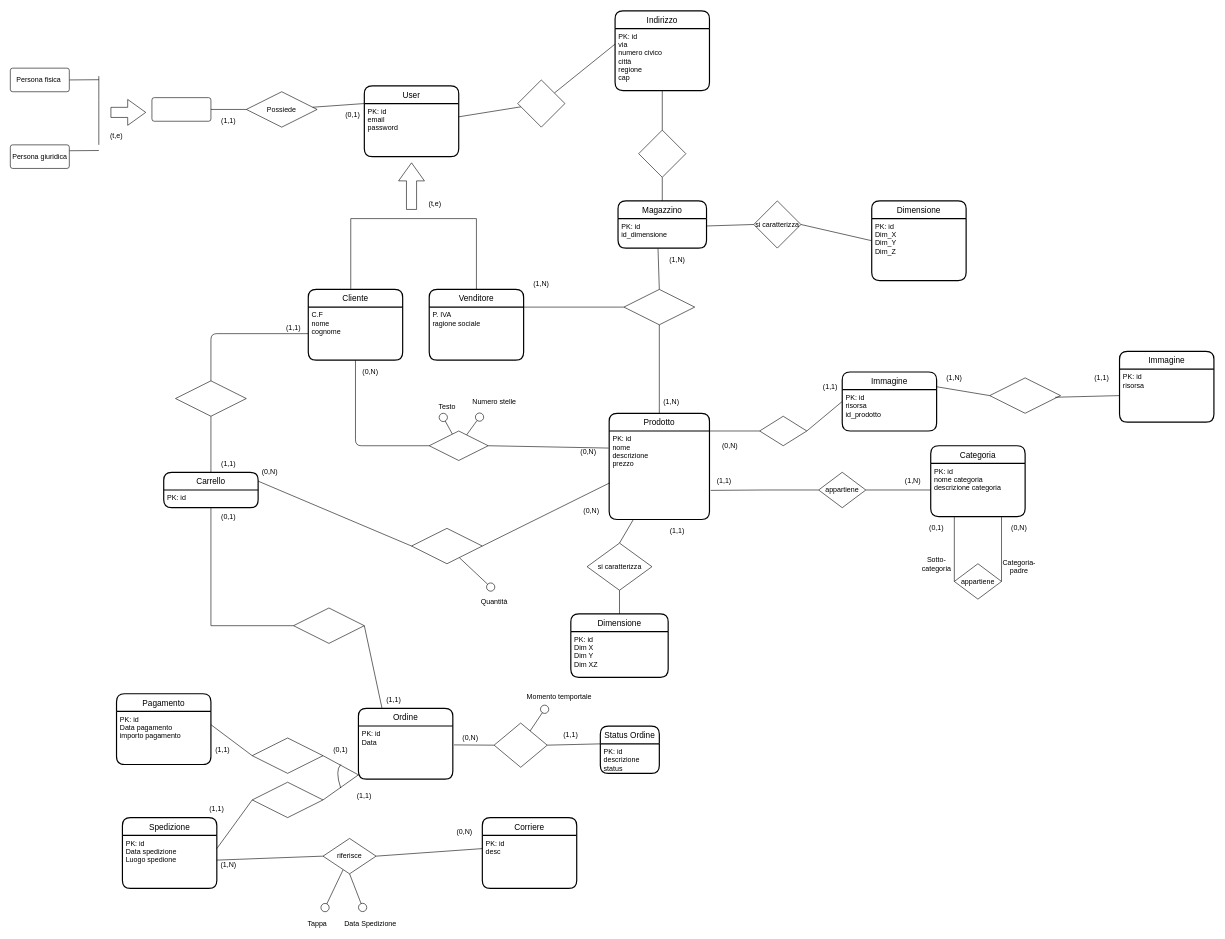
The diagram is 1225 pixels wide and 939 high, and some of its shapes have lost their labels. Each missing label, with the centre of its shape:
"Avanzamento" belongs at point (520, 744).
"Consegna" belongs at point (287, 800).
"Contiene" belongs at point (446, 546).
"Detiene" belongs at point (659, 307).
"Domiciliato" belongs at point (541, 103).
"Effettua" belongs at point (328, 625).
"Fatturazione" belongs at point (287, 755).
"Gode" belongs at point (210, 398).
"ha" belongs at point (783, 431).
"Premium" belongs at point (181, 109).
"Recensisce" belongs at point (458, 445).
"Riferisce a" belongs at point (1025, 395).
"Ubificato" belongs at point (662, 153).
